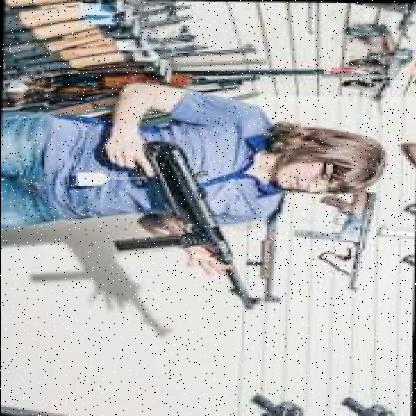rifle: (112, 140, 270, 312)
